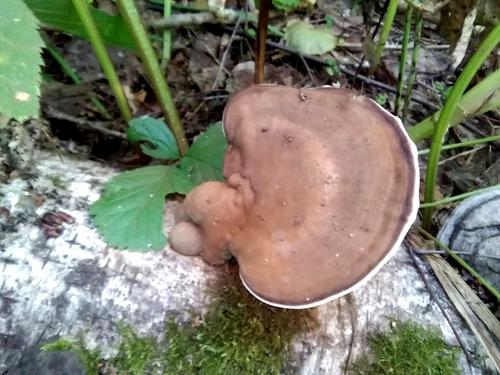Ganoderma - Fruit Body: (169, 82, 423, 311)
